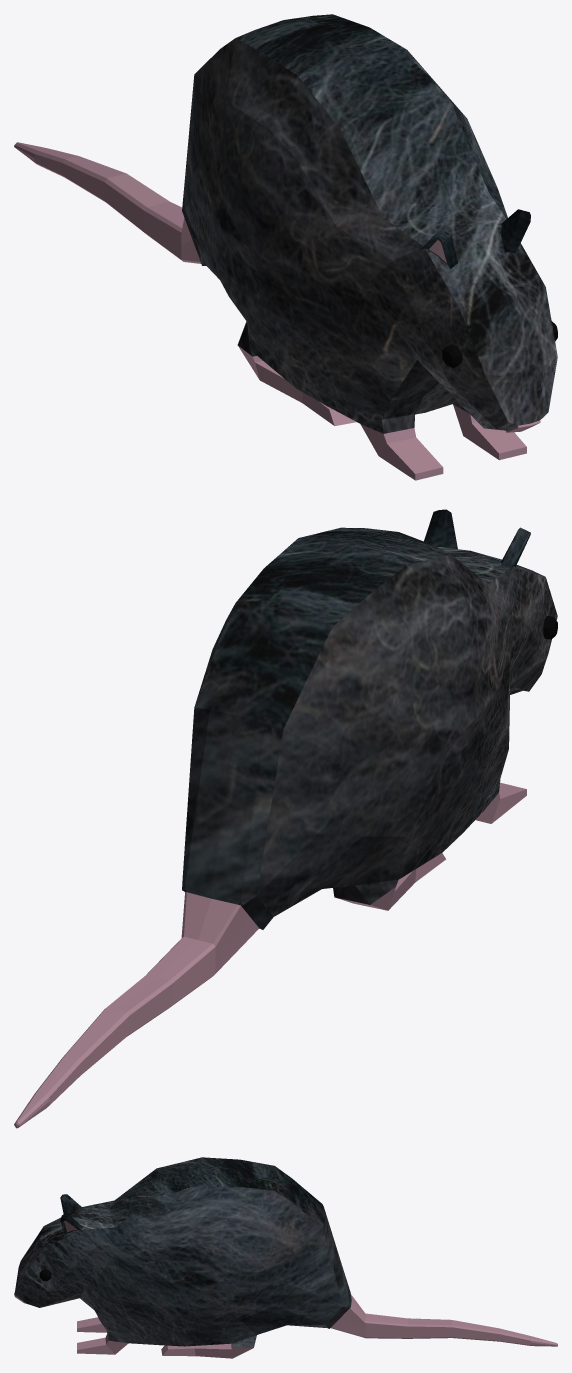
File: Rat.fbx
3 views of the same model, one above another, from view 1: azimuth 30°, elevation 25°; view 2: azimuth 150°, elevation 25°; view 3: azimuth 270°, elevation 25° (orthographic). The views are drawn at different scales.
Parts seen in each view (by area): view 1: Plane; view 2: Plane; view 3: Plane.
Part boxes in pixels (bbox=[...]): Plane: bbox=[14, 14, 557, 480]; Plane: bbox=[14, 509, 557, 1128]; Plane: bbox=[14, 1157, 557, 1358].
Bounding box in the file's own units: 98.54 × 146 × 402.
